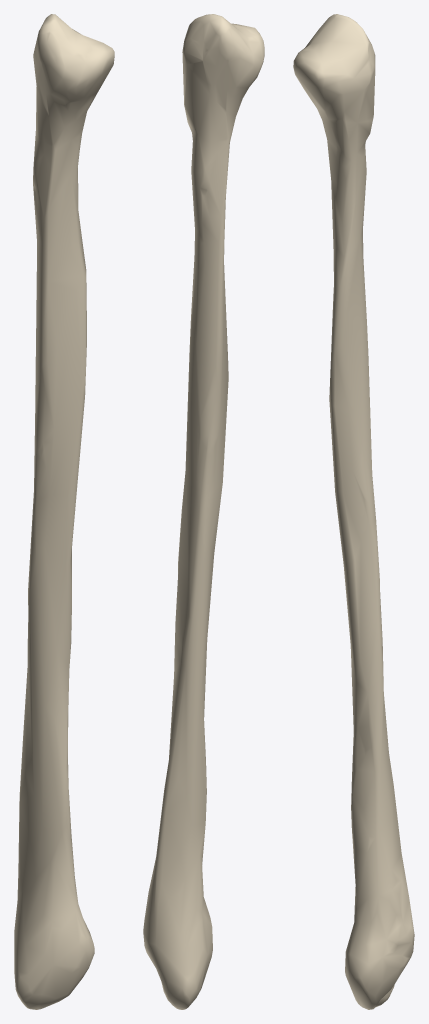
Rendered from fibula-r.glb.
3 renders of one model, left to right at view 1: azimuth 90°, elevation 25°; view 2: azimuth 150°, elevation 25°; view 3: azimuth 330°, elevation 25°, orthographic.
Visible parts, largest first — view 1: Fibula.r; view 2: Fibula.r; view 3: Fibula.r.
Part boxes in pixels (left/top/right/bottom): Fibula.r: left=14, top=14, right=114, bottom=1009; Fibula.r: left=143, top=14, right=264, bottom=1009; Fibula.r: left=293, top=14, right=414, bottom=1009.
Size of the model in its own units: 0.0362 by 0.3625 by 0.0329.
